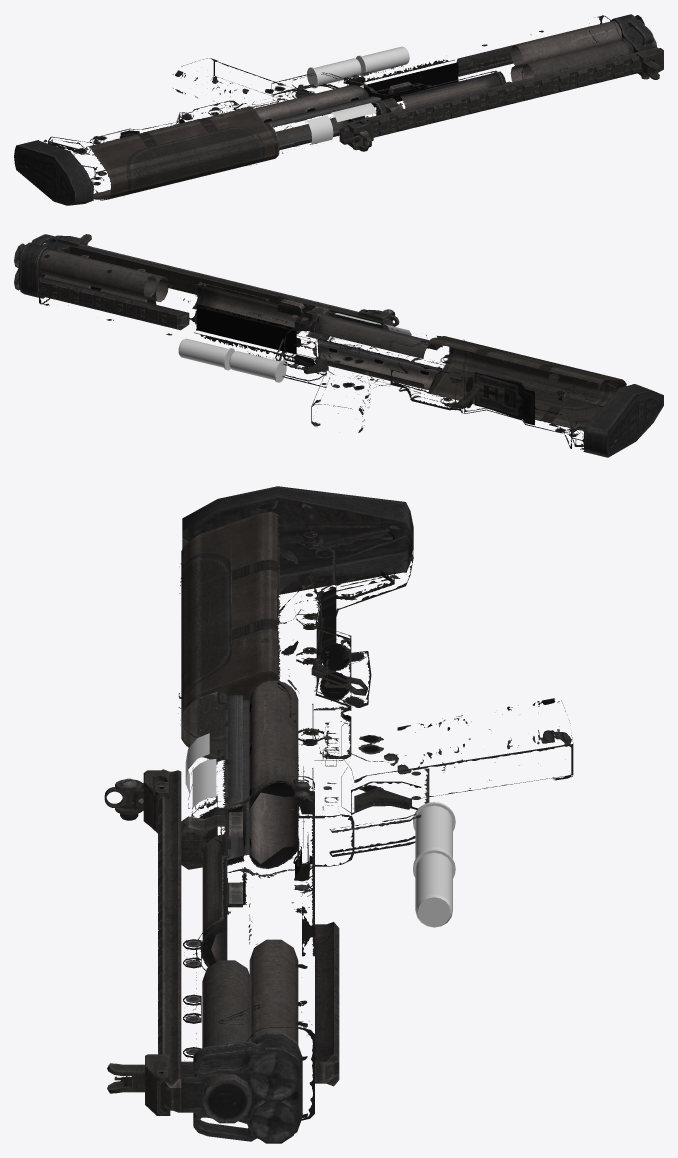
Rendered from t6_wpn_shotty_ksg_view_LOD0.obj.
The picture shows the model from 3 angles, top to bottom: view 1: azimuth 30°, elevation 25°; view 2: azimuth 150°, elevation 25°; view 3: azimuth 270°, elevation 25°; orthographic projection. The views are drawn at different scales.
Visible parts, largest first — view 1: mtl_t6_wpn_shotty_ksg_camo2, mtl_t6_wpn_shotty_ksg_camo3, mtl_t6_wpn_shotty_ksg_camo4, mtl_t6_wpn_shotty_ksg_camo1, mtl_t6_wpn_shotgun_shells, mtl_player_icon, mtl_clan_tag; view 2: mtl_t6_wpn_shotty_ksg_camo2, mtl_t6_wpn_shotty_ksg_camo3, mtl_t6_wpn_shotty_ksg_camo4, mtl_t6_wpn_shotty_ksg_camo1, mtl_t6_wpn_shotgun_shells; view 3: mtl_t6_wpn_shotty_ksg_camo2, mtl_t6_wpn_shotty_ksg_camo3, mtl_t6_wpn_shotty_ksg_camo4, mtl_t6_wpn_shotty_ksg_camo1, mtl_t6_wpn_shotgun_shells, mtl_clan_tag.
Boxes of the visible parts, <box> form: mtl_t6_wpn_shotty_ksg_camo2: <box>88,14,663,199</box>; mtl_t6_wpn_shotty_ksg_camo3: <box>38,26,657,203</box>; mtl_t6_wpn_shotty_ksg_camo4: <box>255,20,656,150</box>; mtl_t6_wpn_shotty_ksg_camo1: <box>14,15,656,205</box>; mtl_t6_wpn_shotgun_shells: <box>307,46,409,88</box>; mtl_player_icon: <box>306,115,333,144</box>; mtl_clan_tag: <box>331,103,376,122</box>; mtl_t6_wpn_shotty_ksg_camo2: <box>14,234,626,430</box>; mtl_t6_wpn_shotty_ksg_camo3: <box>38,242,633,452</box>; mtl_t6_wpn_shotty_ksg_camo4: <box>40,249,442,389</box>; mtl_t6_wpn_shotty_ksg_camo1: <box>14,243,663,457</box>; mtl_t6_wpn_shotgun_shells: <box>178,338,286,382</box>; mtl_t6_wpn_shotty_ksg_camo2: <box>104,512,411,1143</box>; mtl_t6_wpn_shotty_ksg_camo3: <box>158,497,573,1123</box>; mtl_t6_wpn_shotty_ksg_camo4: <box>202,680,298,1100</box>; mtl_t6_wpn_shotty_ksg_camo1: <box>115,486,413,1120</box>; mtl_t6_wpn_shotgun_shells: <box>413,802,455,927</box>; mtl_clan_tag: <box>192,759,216,807</box>.
Size of the model in its own units: 79.03 by 6.57 by 27.15.
